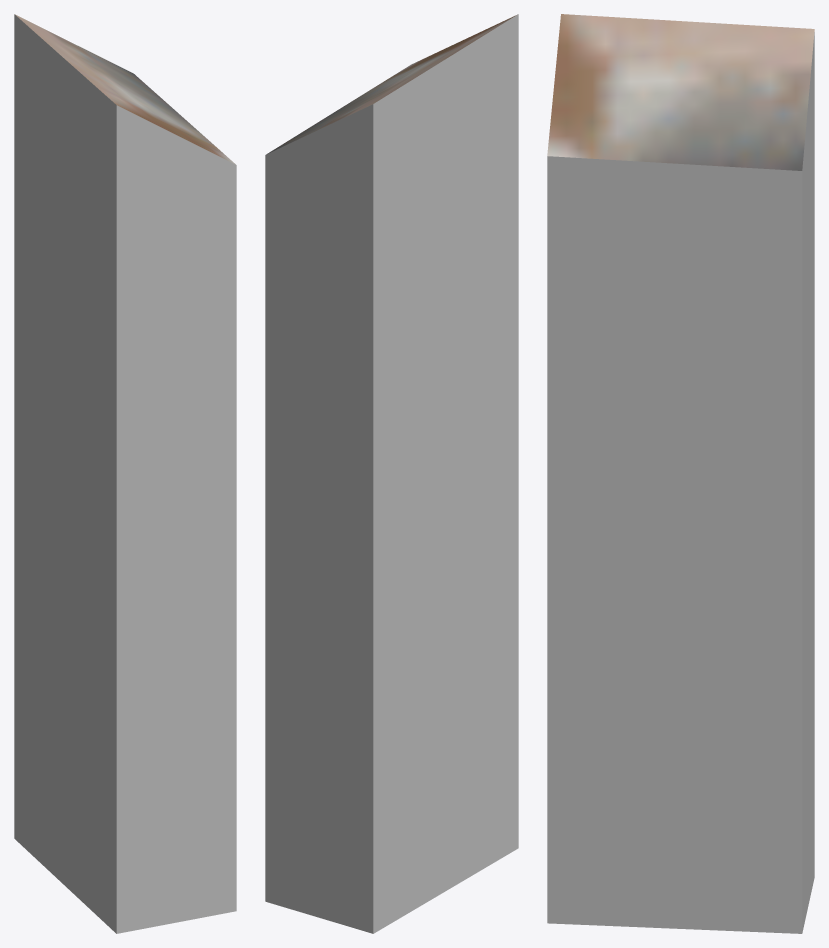
File: DEBW_0010007THZH.gltf
3 renders of one model, left to right at view 1: azimuth 30°, elevation 25°; view 2: azimuth 150°, elevation 25°; view 3: azimuth 270°, elevation 25°, orthographic. The views are drawn at different scales.
Parts seen in each view (by area): view 1: Z_UP; view 2: Z_UP; view 3: Z_UP.
Boxes of the visible parts, bbox=[...] form: Z_UP: bbox=[14, 14, 236, 933]; Z_UP: bbox=[265, 14, 518, 933]; Z_UP: bbox=[547, 14, 814, 933].
Size of the model in its own units: 2.43 by 14.31 by 4.07.
2 materials, 1 textured.
